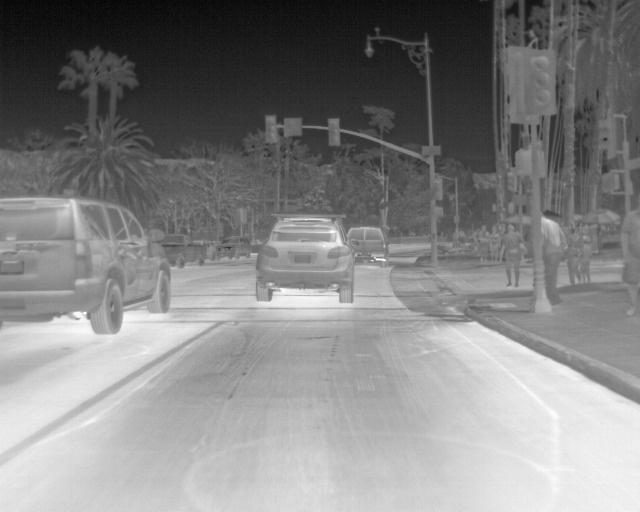bicycle: (0, 192, 175, 337), (252, 213, 355, 304), (347, 225, 391, 265), (160, 233, 207, 269), (218, 234, 253, 261)
empty: (539, 216, 569, 303), (618, 207, 638, 315), (501, 224, 523, 289), (477, 226, 491, 263)
